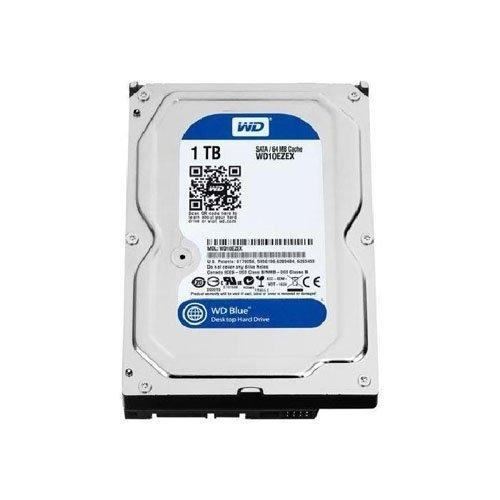internal HDD: (120, 80, 381, 420)
